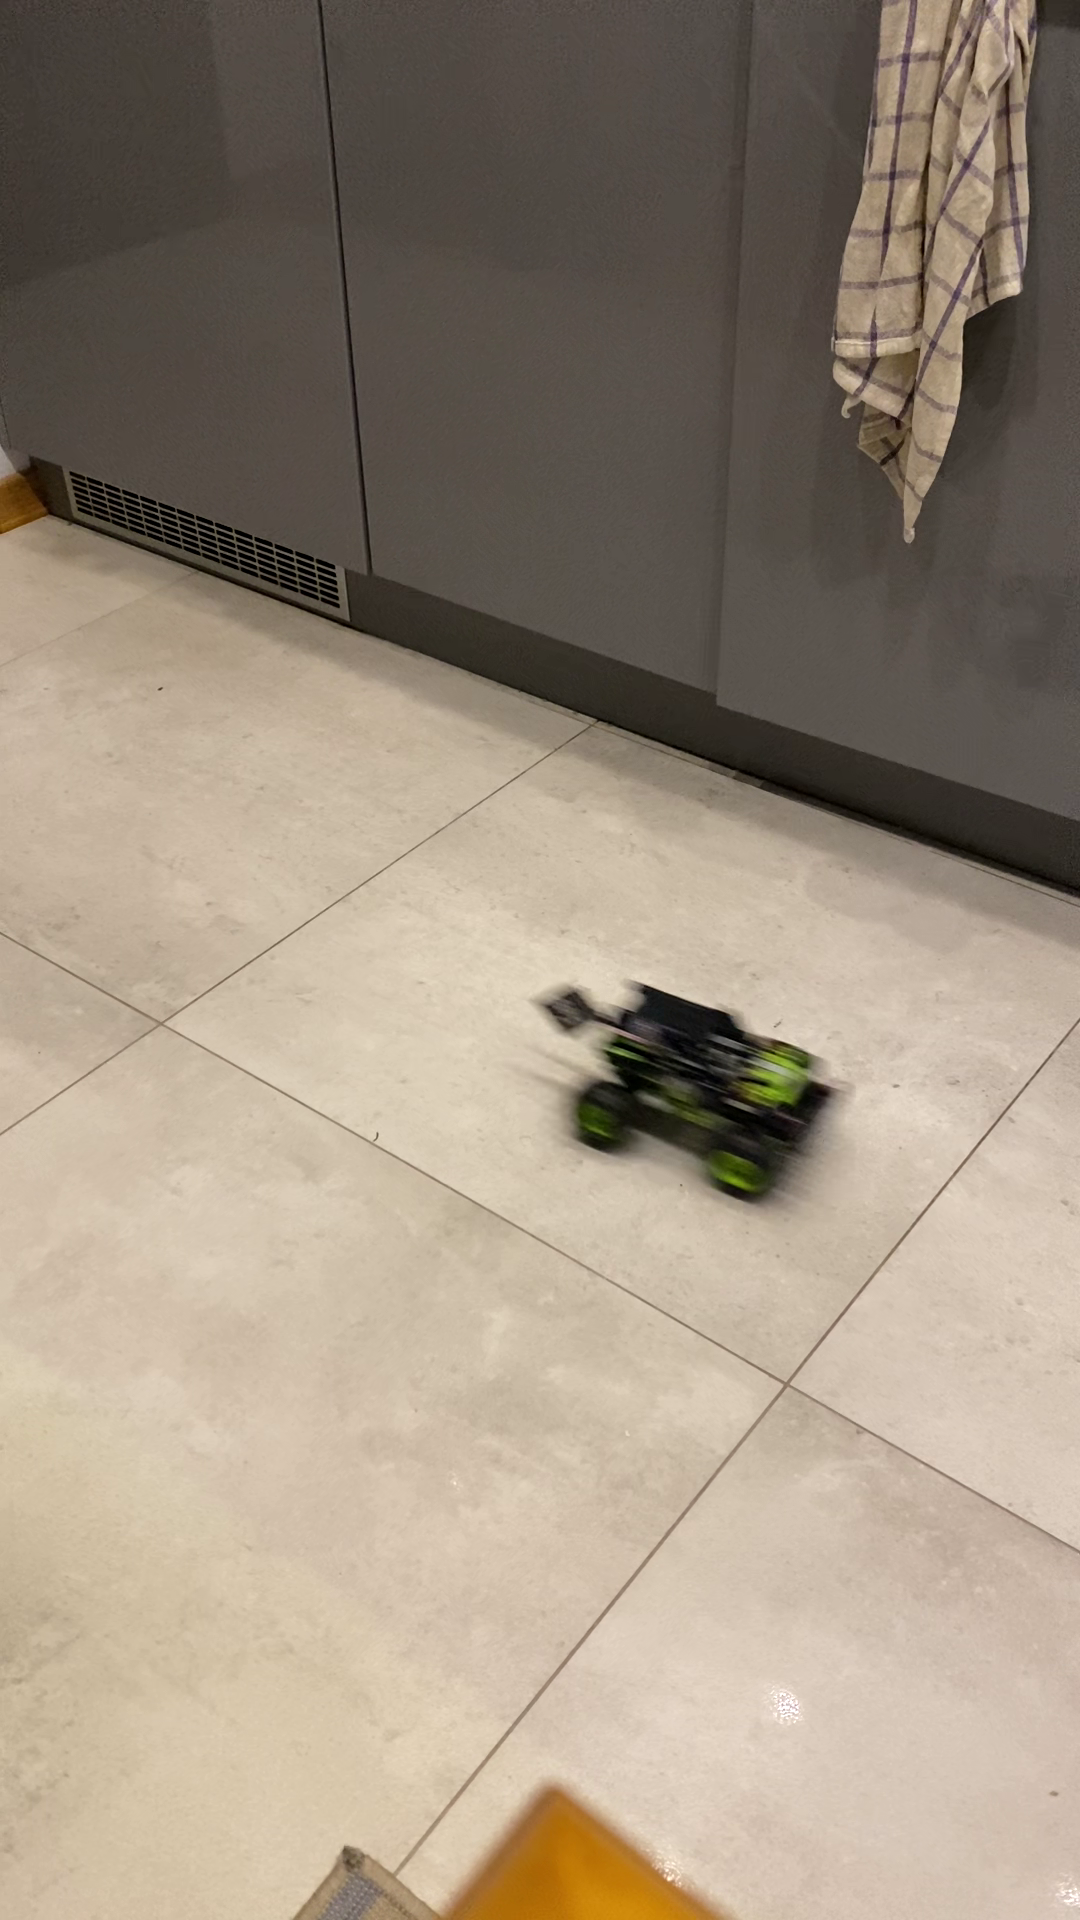car: (559, 963, 839, 1189)
